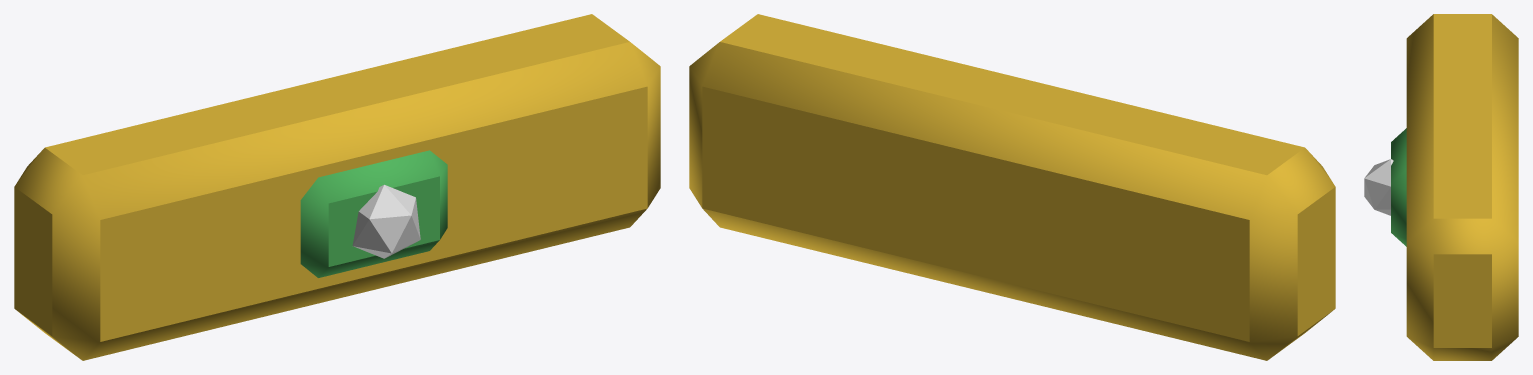
File: gear_bau_charm.glb
3 views of the same model, side by side, from view 1: azimuth 30°, elevation 25°; view 2: azimuth 150°, elevation 25°; view 3: azimuth 270°, elevation 25° (orthographic). The views are drawn at different scales.
Parts seen in each view (by area): view 1: body; view 2: body; view 3: body.
Part boxes in pixels (x1,y1,x2,y2): body: (14,14,660,360); body: (689,14,1335,360); body: (1364,14,1518,360).
Bounding box in the file's own units: 0.12 × 0.035 × 0.0345.
